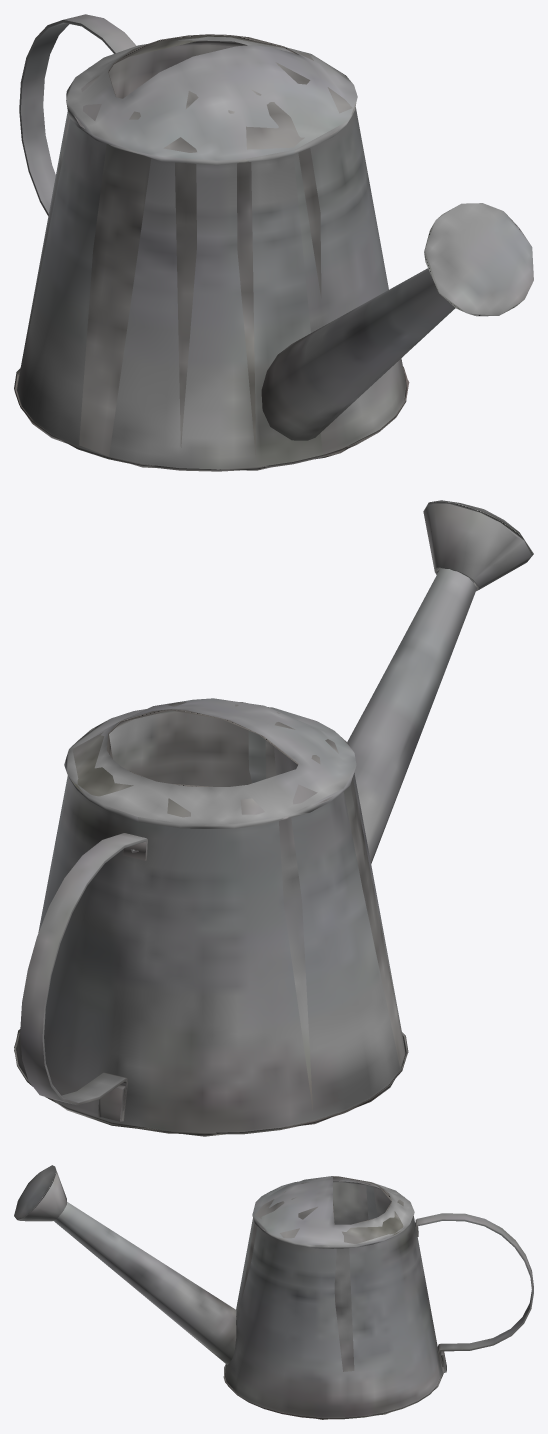
Rendered from watering_can_metal_01_lod2.glb.
The picture shows the model from 3 angles, top to bottom: view 1: azimuth 30°, elevation 25°; view 2: azimuth 150°, elevation 25°; view 3: azimuth 270°, elevation 25°; orthographic projection. The views are drawn at different scales.
Parts seen in each view (by area): view 1: watering_can_metal_01; view 2: watering_can_metal_01; view 3: watering_can_metal_01.
Boxes of the visible parts, x1,y1,x2,y2 form: watering_can_metal_01: (14,14,533,471); watering_can_metal_01: (14,500,533,1136); watering_can_metal_01: (14,1165,533,1419).
Bounding box in the file's own units: 0.1905 × 0.1965 × 0.4521.
Materials: 1 (1 with a texture image).
